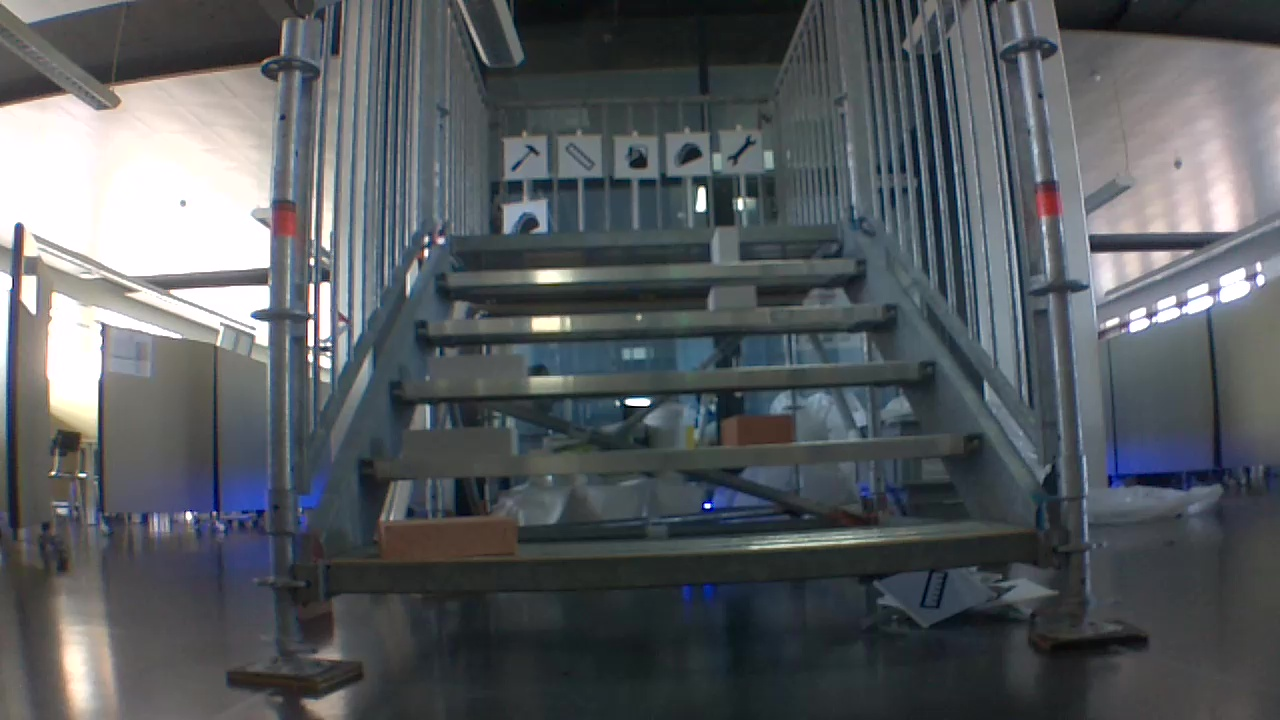brick: (371, 508, 525, 566), (400, 424, 518, 462), (425, 349, 529, 386), (713, 404, 798, 449), (704, 281, 768, 314), (710, 226, 743, 261)
bucket: (623, 140, 652, 173)
edge: (322, 533, 1048, 586), (355, 436, 994, 483), (394, 365, 942, 390), (414, 303, 905, 329), (427, 261, 870, 289), (421, 233, 848, 251)
hammer: (508, 140, 544, 173)
ruler: (915, 566, 958, 615), (563, 142, 599, 172)
stairs: (250, 0, 1143, 676)
steps: (303, 218, 1045, 584)
taco: (675, 141, 704, 169), (510, 208, 539, 234)
wrench: (725, 132, 760, 167)
